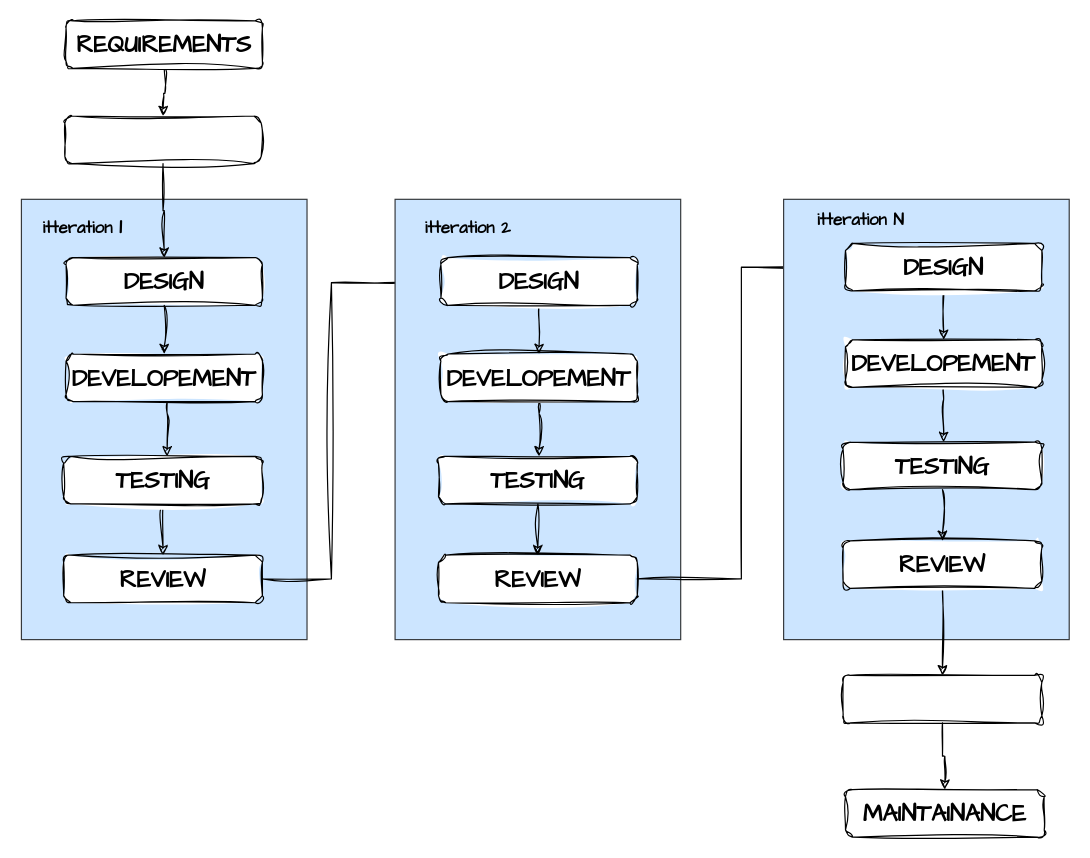
This 1090x858 diagram has some shape labels left out. The box of each missing label's shape, as (x1, y1, x2, y2) in pixels:
ANALYSIS: (64, 115, 261, 164)
DEPLOYMENT: (842, 674, 1042, 723)
